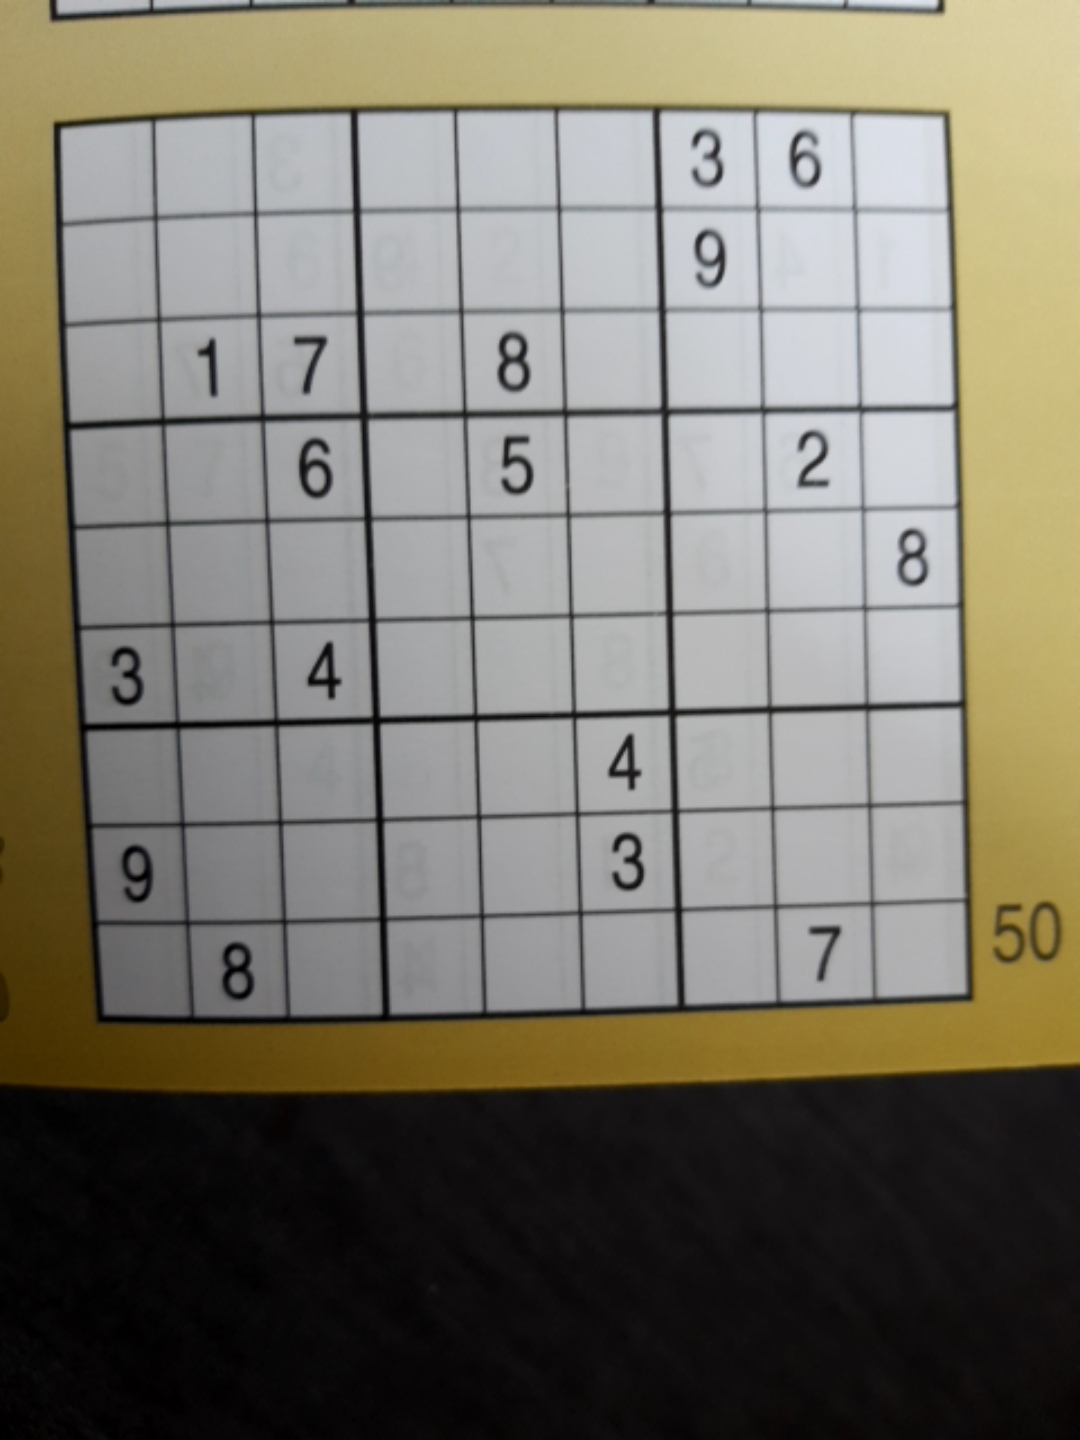sudoku: (49, 106, 970, 1023)
